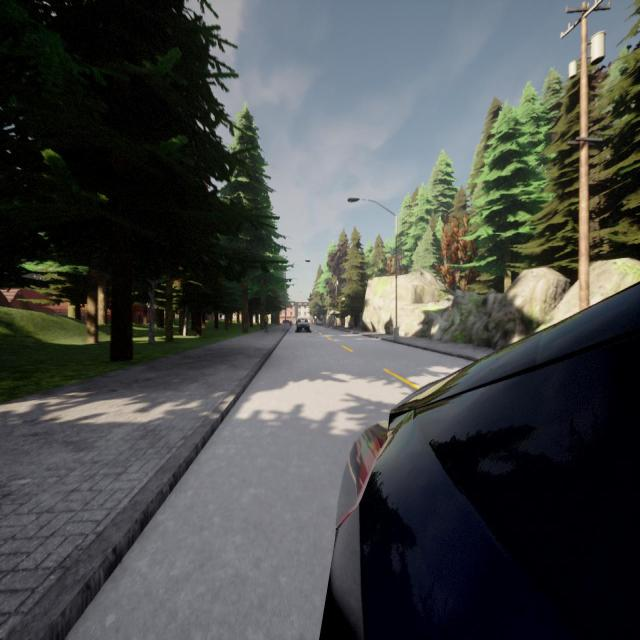Pedestrian: (263, 310, 269, 334)
Traffic_Signs: (315, 316, 317, 320)
Vehicle: (321, 283, 639, 637), (296, 317, 312, 333), (282, 319, 292, 325)
